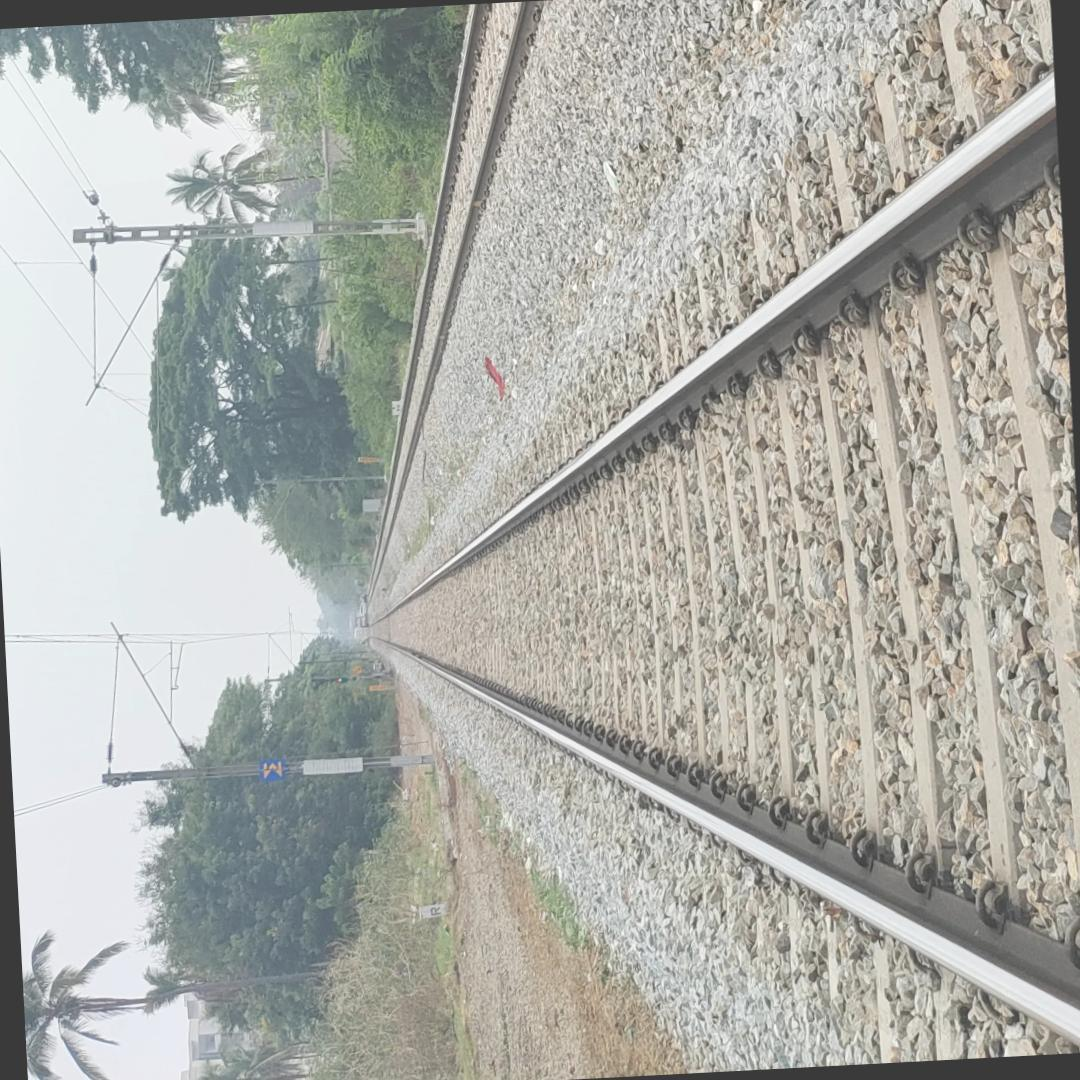track: (348, 0, 1080, 1060)
